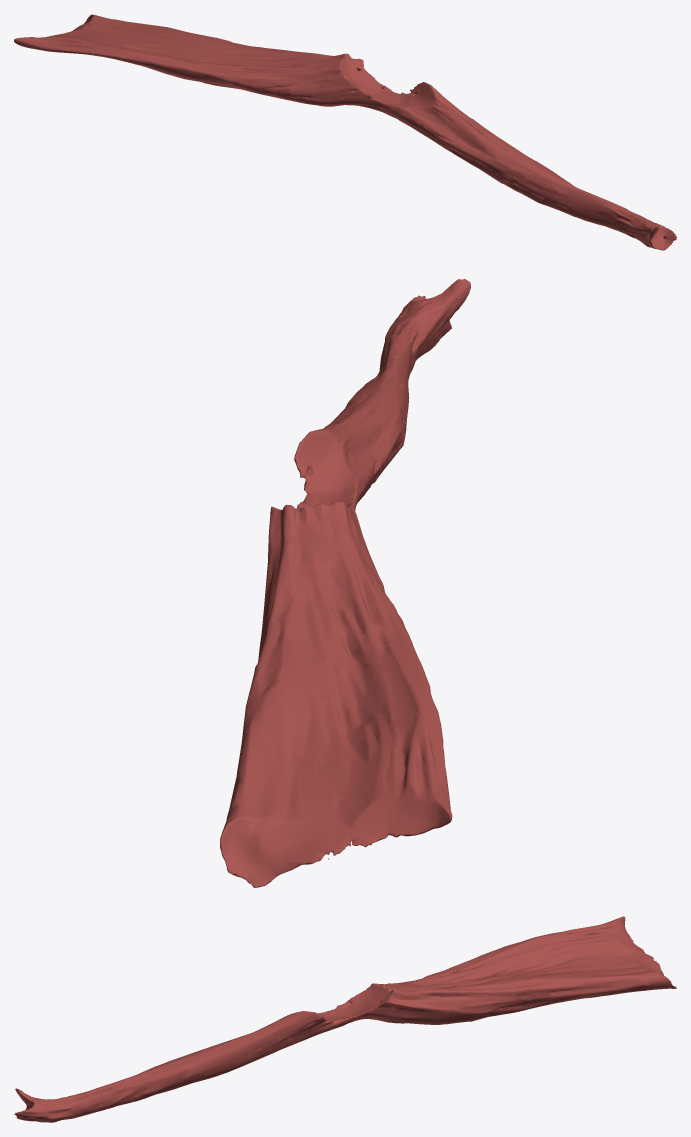
Rendered from FMA37464.glb.
3 views of the same model, one above another, from view 1: azimuth 30°, elevation 25°; view 2: azimuth 150°, elevation 25°; view 3: azimuth 270°, elevation 25° (orthographic). The views are drawn at different scales.
Visible parts, largest first — view 1: FMA37464; view 2: FMA37464; view 3: FMA37464.
Boxes of the visible parts, x1=… form: FMA37464: x1=14, y1=14, x2=676, y2=250; FMA37464: x1=220, y1=279, x2=470, y2=887; FMA37464: x1=14, y1=916, x2=676, y2=1122.
Size of the model in its own units: 0.0686 by 0.0161 by 0.1232.
